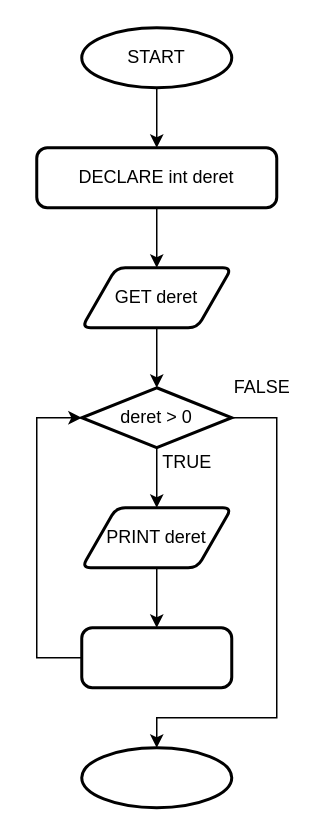
Image size: 326x834. Some labels were removed from this diagram. The centre of each missing label's shape, as x and y in pixels:
deret --: the point at 156,657
STOP: the point at 156,777
